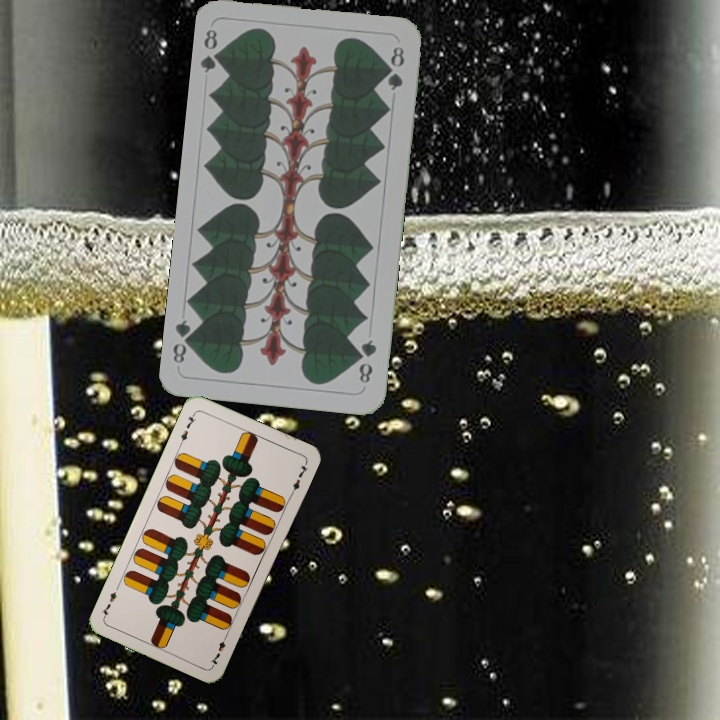E7: (206, 630, 231, 668), (175, 409, 199, 447)
G8: (197, 25, 227, 75), (354, 335, 379, 386)
